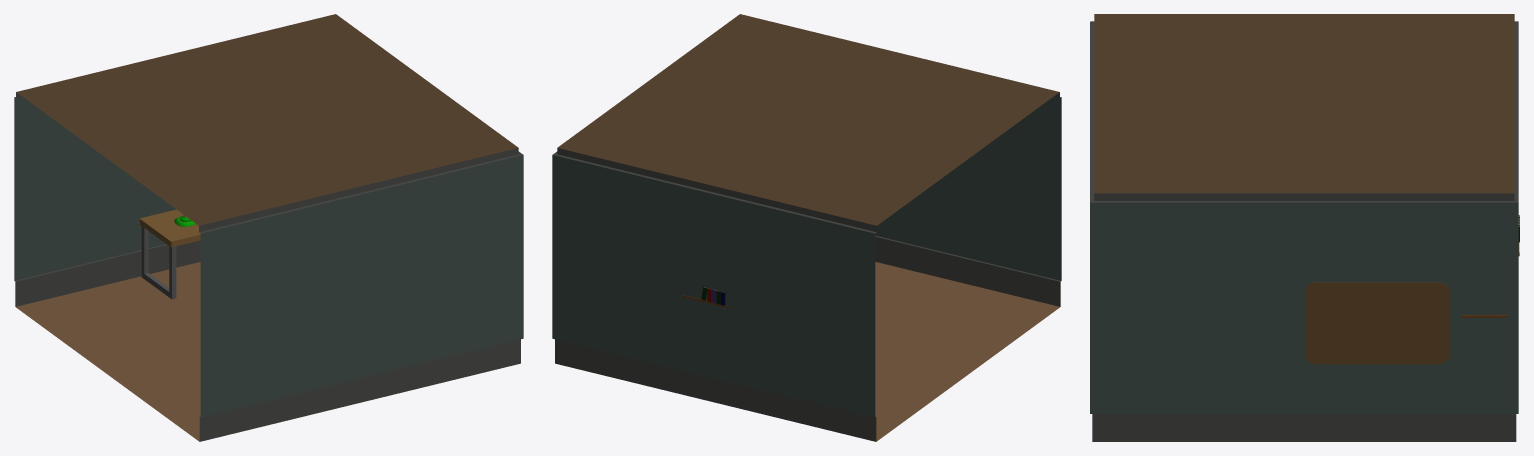
Rendered from Room.fbx.
The picture shows the model from 3 angles, left to right: view 1: azimuth 30°, elevation 25°; view 2: azimuth 150°, elevation 25°; view 3: azimuth 270°, elevation 25°; orthographic projection. The views are drawn at different scales.
Parts seen in each view (by area): view 1: Plane, Plane.001; view 2: Plane; view 3: Plane, Cube.007.
Boxes of the visible parts, x1,y1,x2,y2 form: Plane: [14, 14, 523, 441]; Plane.001: [140, 209, 200, 299]; Plane: [552, 14, 1061, 441]; Plane: [1090, 14, 1518, 441]; Cube.007: [1305, 282, 1448, 364].
Bounding box in the file's own units: 272 × 173 × 271.
